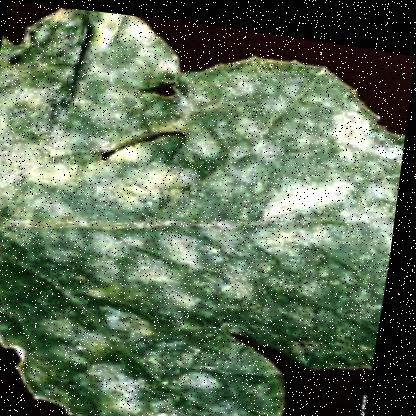PowderyMildew: (0, 76, 240, 342), (152, 112, 399, 337)
